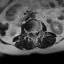CCS_normal: (33, 28, 35, 37)
LFS_normal: (37, 27, 39, 34)
LLS_normal: (35, 28, 37, 35)
RFS_stenosis: (29, 28, 31, 35)
RLS_normal: (31, 28, 33, 35)
